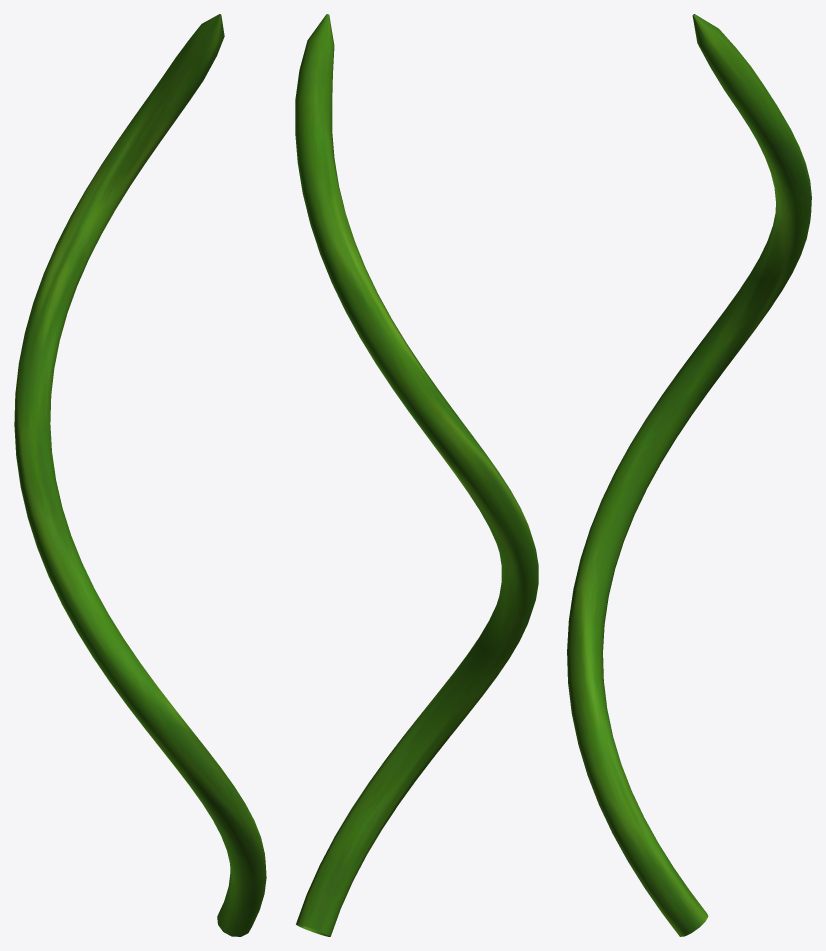
Rendered from 0442_tengman02.glb.
3 views of the same model, side by side, from view 1: azimuth 30°, elevation 25°; view 2: azimuth 150°, elevation 25°; view 3: azimuth 270°, elevation 25° (orthographic).
Size of the model in its own units: 0.5533 by 2.2 by 0.5345.
Materials: 1 (1 with a texture image).
